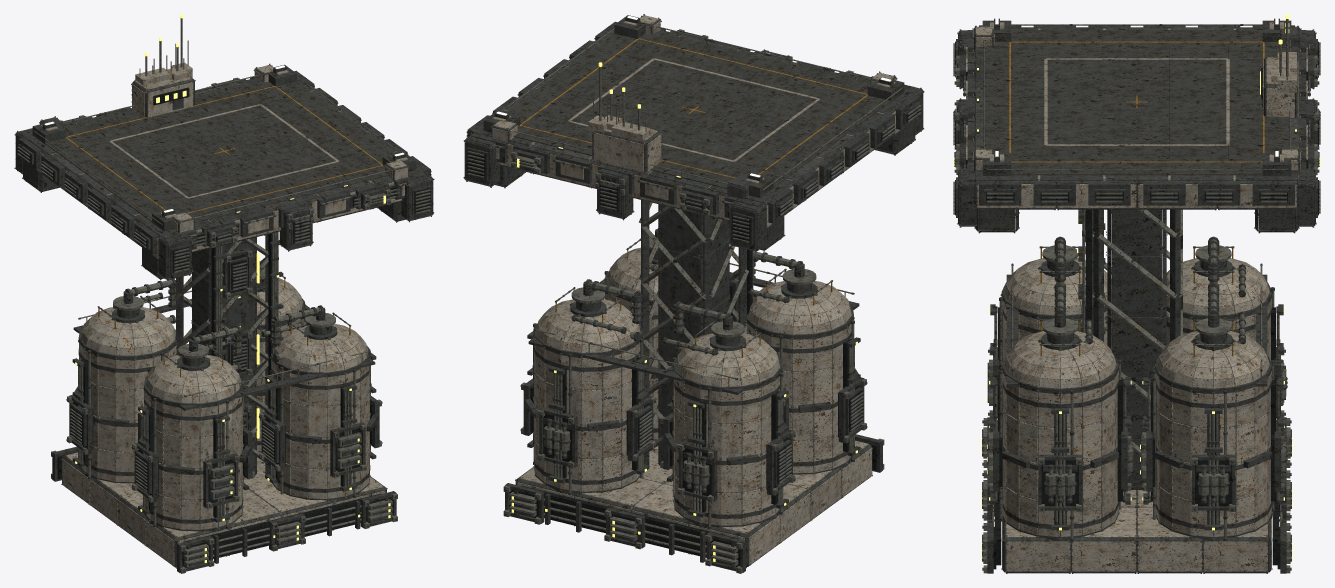
The model's file is derrick.glb.
3 renders of one model, left to right at view 1: azimuth 30°, elevation 25°; view 2: azimuth 150°, elevation 25°; view 3: azimuth 270°, elevation 25°, orthographic. The views are drawn at different scales.
Parts seen in each view (by area): view 1: static/dark-structure, static/landing-grey, static/cladding-armour-1, static/machined-alloy, static/cladding-dark-structure, static/recess-black, static/cladding-armour-3, static/cladding-armour-0, static/cladding-armour-2, static/armour-1, static/cladding-blue-grey-0, static/service-ochre (+3 smaller); view 2: static/dark-structure, static/landing-grey, static/machined-alloy, static/cladding-armour-1, static/cladding-armour-3, static/cladding-dark-structure, static/recess-black, static/cladding-armour-0, static/cladding-armour-2, static/armour-1, static/cladding-blue-grey-0, static/service-ochre (+2 smaller); view 3: static/dark-structure, static/landing-grey, static/cladding-armour-1, static/machined-alloy, static/cladding-dark-structure, static/cladding-armour-3, static/cladding-armour-2, static/cladding-armour-0, static/recess-black, static/armour-1, static/service-ochre, static/cladding-blue-grey-2 (+3 smaller).
Boxes of the visible parts, x1,y1,x2,y2 form: static/dark-structure: [15, 64, 433, 572]; static/landing-grey: [33, 79, 395, 230]; static/cladding-armour-1: [60, 65, 408, 540]; static/machined-alloy: [14, 18, 434, 573]; static/cladding-dark-structure: [15, 65, 433, 567]; static/recess-black: [18, 87, 430, 567]; static/cladding-armour-3: [36, 80, 401, 565]; static/cladding-armour-0: [79, 76, 396, 567]; static/cladding-armour-2: [85, 110, 427, 526]; static/armour-1: [41, 62, 407, 218]; static/cladding-blue-grey-0: [22, 76, 315, 236]; static/service-ochre: [66, 86, 383, 377]; static/dark-structure: [464, 14, 923, 572]; static/landing-grey: [506, 31, 903, 196]; static/machined-alloy: [463, 14, 924, 573]; static/cladding-armour-1: [492, 15, 899, 567]; static/cladding-armour-3: [490, 65, 871, 564]; static/cladding-dark-structure: [464, 15, 923, 566]; static/recess-black: [467, 55, 920, 567]; static/cladding-armour-0: [471, 36, 883, 525]; static/cladding-armour-2: [516, 50, 850, 542]; static/armour-1: [492, 20, 895, 183]; static/cladding-blue-grey-0: [472, 64, 915, 203]; static/service-ochre: [519, 38, 867, 357]; static/dark-structure: [953, 18, 1320, 573]; static/landing-grey: [984, 30, 1289, 175]; static/cladding-armour-1: [973, 26, 1300, 571]; static/machined-alloy: [953, 19, 1320, 573]; static/cladding-dark-structure: [958, 27, 1315, 573]; static/cladding-armour-3: [973, 28, 1300, 571]; static/cladding-armour-2: [973, 72, 1267, 571]; static/cladding-armour-0: [973, 28, 1300, 569]; static/recess-black: [955, 41, 1318, 569]; static/armour-1: [966, 22, 1307, 161]; static/service-ochre: [1009, 41, 1264, 356]; static/cladding-blue-grey-2: [975, 26, 1300, 180].
Bounding box in the file's own units: 406 × 590 × 384.
Materials: 15 (13 with a texture image).
